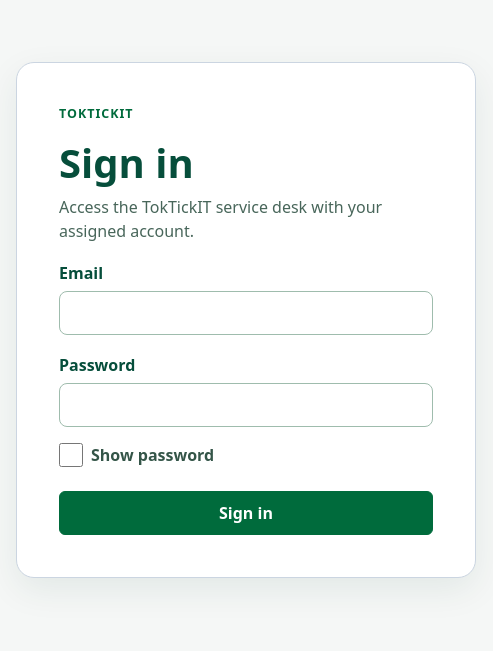
Test case: Login › disables another submit until the server-provided rate-limit window expires
Expected: the heading "Sign in" is shown, [59,135,194,190]
Type "amina.rahman@toktickit.local" into the field labelled "Email" at {"x": 246, "y": 313}, box [59,291,433,335]
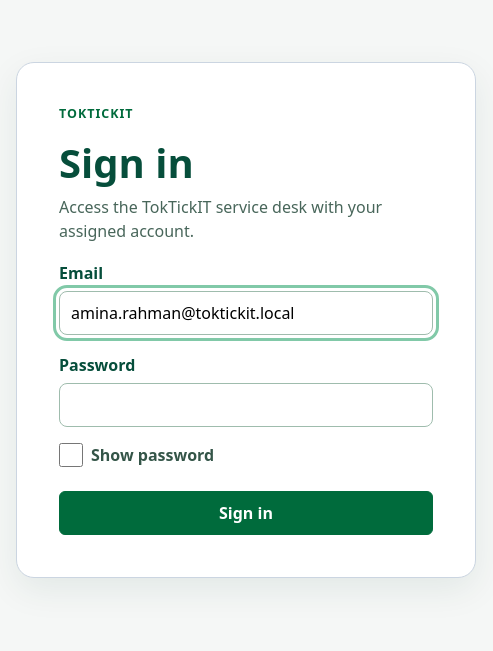
Type "ChangeMe-2026!" into the password field labelled "Password" at {"x": 246, "y": 405}, box [59,383,433,427]
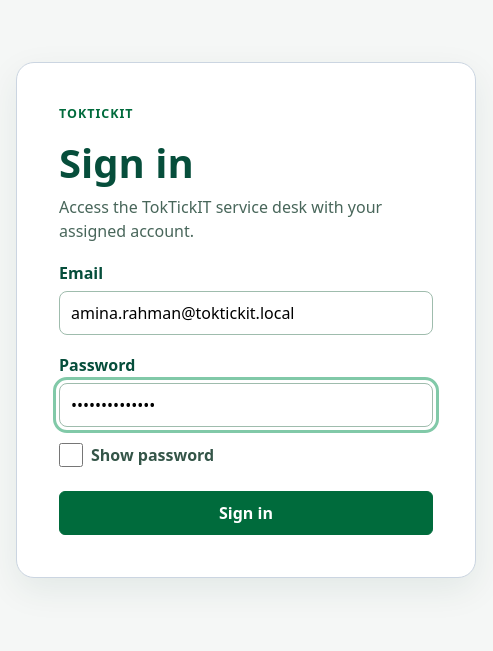
Click the button "Sign in" at {"x": 246, "y": 513}, box [59,491,433,535]
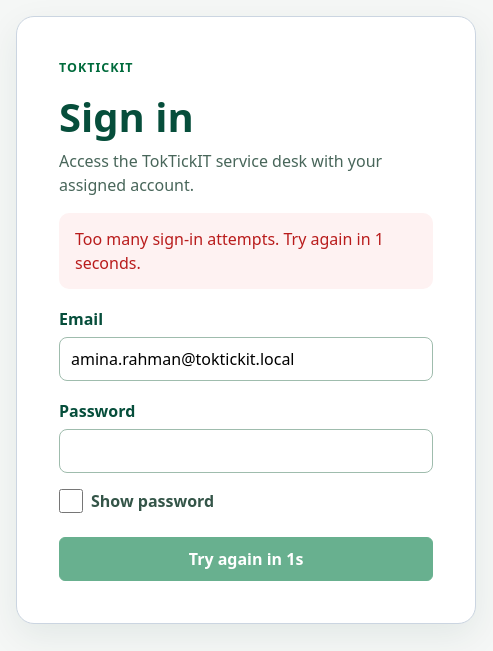
Result: the text "Too many sign-in attempts. Try again in 1 seconds." is shown at [59,213,433,289]
Result: the button "Try again in 1s" is disabled at [59,537,433,581]
